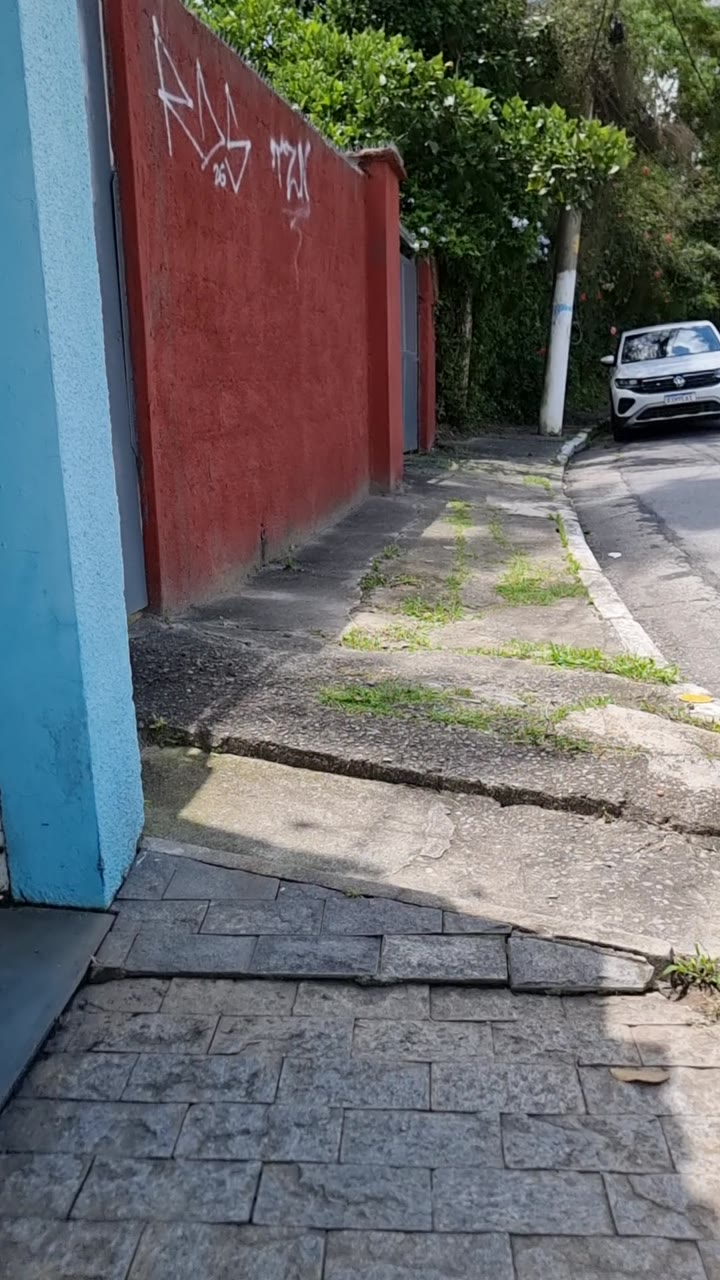desnivel: (72, 922, 720, 1011), (180, 742, 720, 845)
obstaculo: (540, 128, 583, 435)
